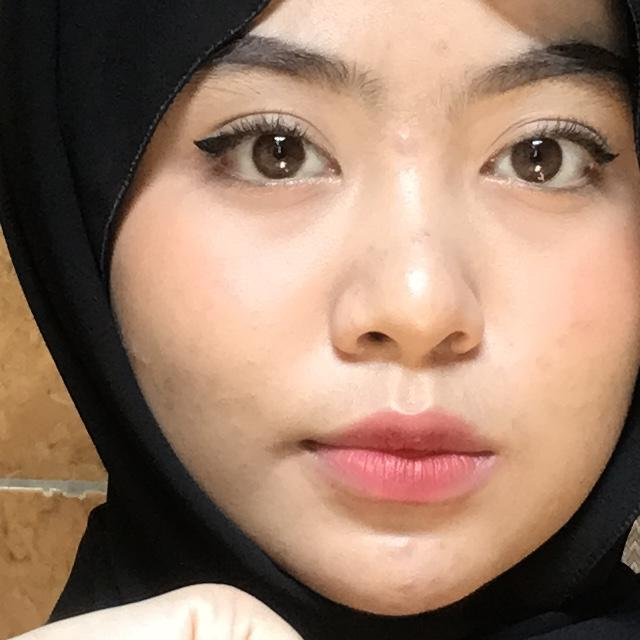sedih: (0, 456, 490, 640)
